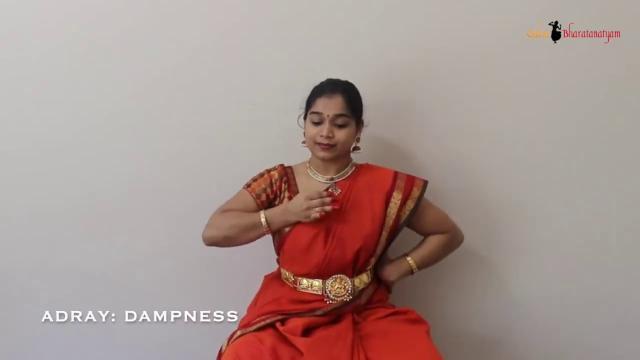chatur: (282, 180, 354, 238)
